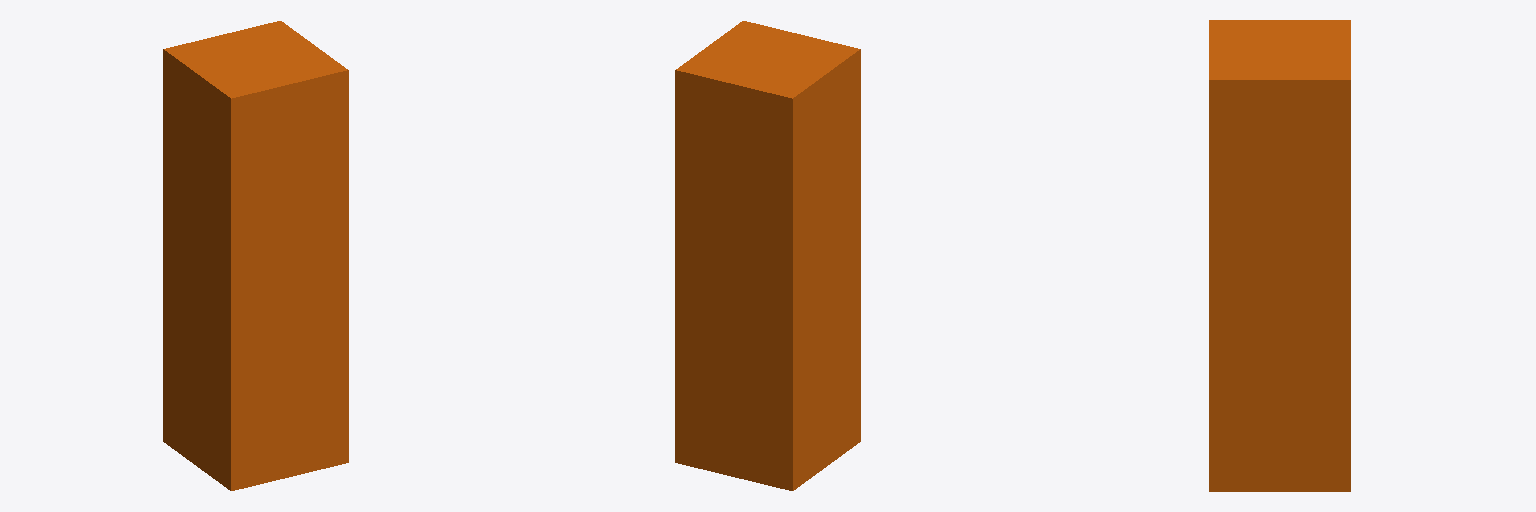
The robot description file, URDF, robot "peg":
<?xml version="1.0"?>
<!-- Generated by aegis_gym.aux.pih_assets, do not edit: change nominal.yaml (or the overrides) and run python3 -m scripts.peg_in_hole.generate_assets. -->
<robot name="peg">
  <link name="peg_link">
    <visual>
      <geometry>
        <mesh filename="peg.stl" />
      </geometry>
      <material name="peg_color">
        <color rgba="0.85 0.45 0.1 1" />
      </material>
    </visual>
    <collision>
      <origin xyz="0 0 0.04" rpy="0 0 0" />
      <geometry>
        <box size="0.025 0.025 0.08" />
      </geometry>
    </collision>
    <inertial>
      <origin xyz="0 0 0.04" rpy="0 0 0" />
      <mass value="0.04" />
      <inertia ixx="2.34166666667e-05" ixy="0" ixz="0" iyy="2.34166666667e-05" iyz="0" izz="4.16666666667e-06" />
    </inertial>
  </link>
</robot>

--- Render facts (derived) ---
The picture shows the robot from 3 angles, left to right: view 1: azimuth 30°, elevation 25°; view 2: azimuth 150°, elevation 25°; view 3: azimuth 270°, elevation 25°; orthographic projection.
Robot: peg — 1 links, 0 joints (none); root link peg_link; default pose: all joints at 0.
Visible links, largest first — view 1: peg_link; view 2: peg_link; view 3: peg_link.
Boxes of the visible links, bbox=[...] form: peg_link: bbox=[163, 21, 348, 490]; peg_link: bbox=[675, 21, 860, 490]; peg_link: bbox=[1209, 20, 1350, 491].
Bounding box of the posed robot: 0.025 × 0.025 × 0.08 m (x, y, z).
Meshes: 1 distinct files referenced, 1 mesh visuals loaded (1 binary STL).
